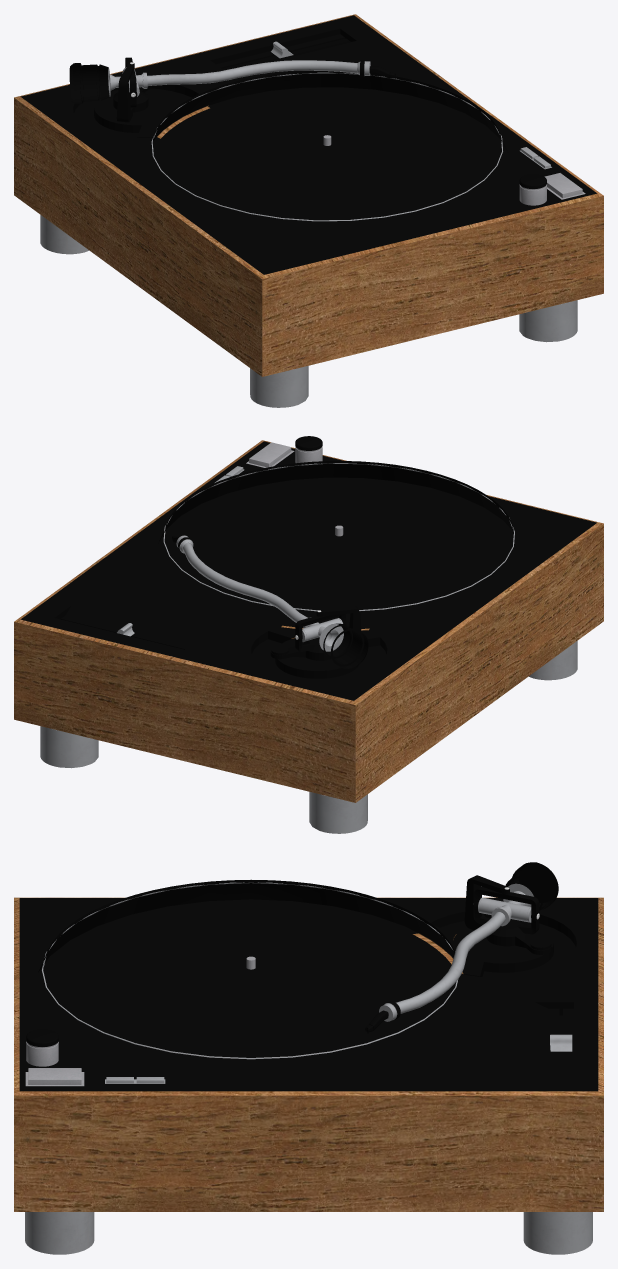
File: p_turntable.glb
The picture shows the model from 3 angles, top to bottom: view 1: azimuth 30°, elevation 25°; view 2: azimuth 150°, elevation 25°; view 3: azimuth 270°, elevation 25°; orthographic projection. The views are drawn at different scales.
Parts seen in each view (by area): view 1: Turnatable; view 2: Turnatable; view 3: Turnatable.
Boxes of the visible parts, x1,y1,x2,y2 form: Turnatable: (14,14,603,407); Turnatable: (14,436,603,833); Turnatable: (14,862,603,1254).
Size of the model in its own units: 0.1843 by 0.0953 by 0.2319.
9 materials, 6 textured.
